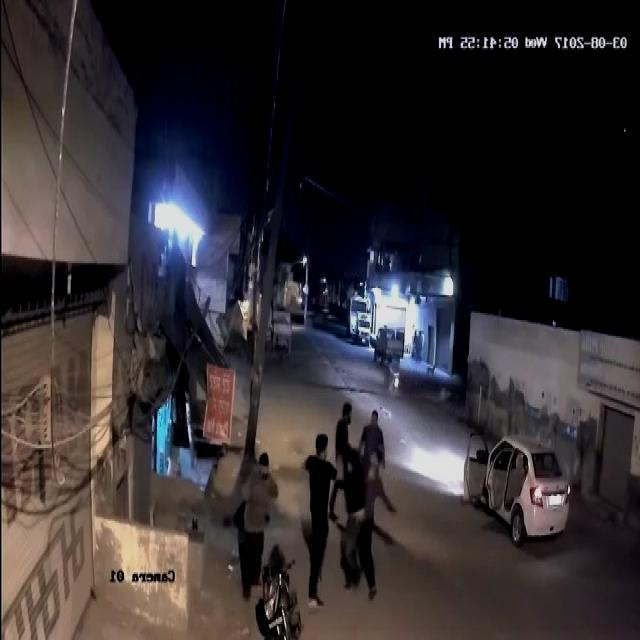fight: (305, 434, 363, 602)
